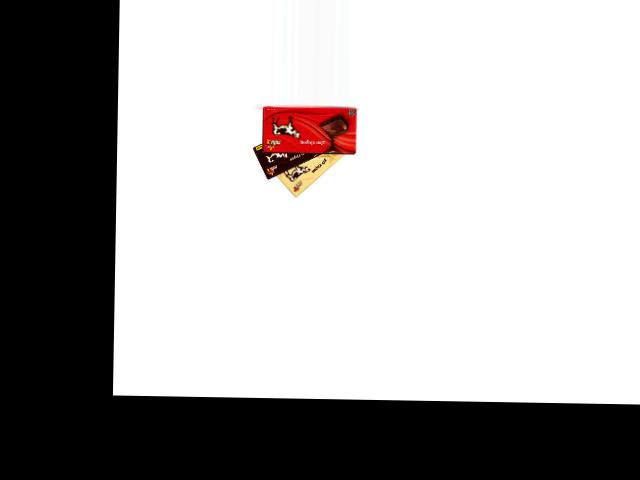chocolate: (265, 144, 353, 199)
